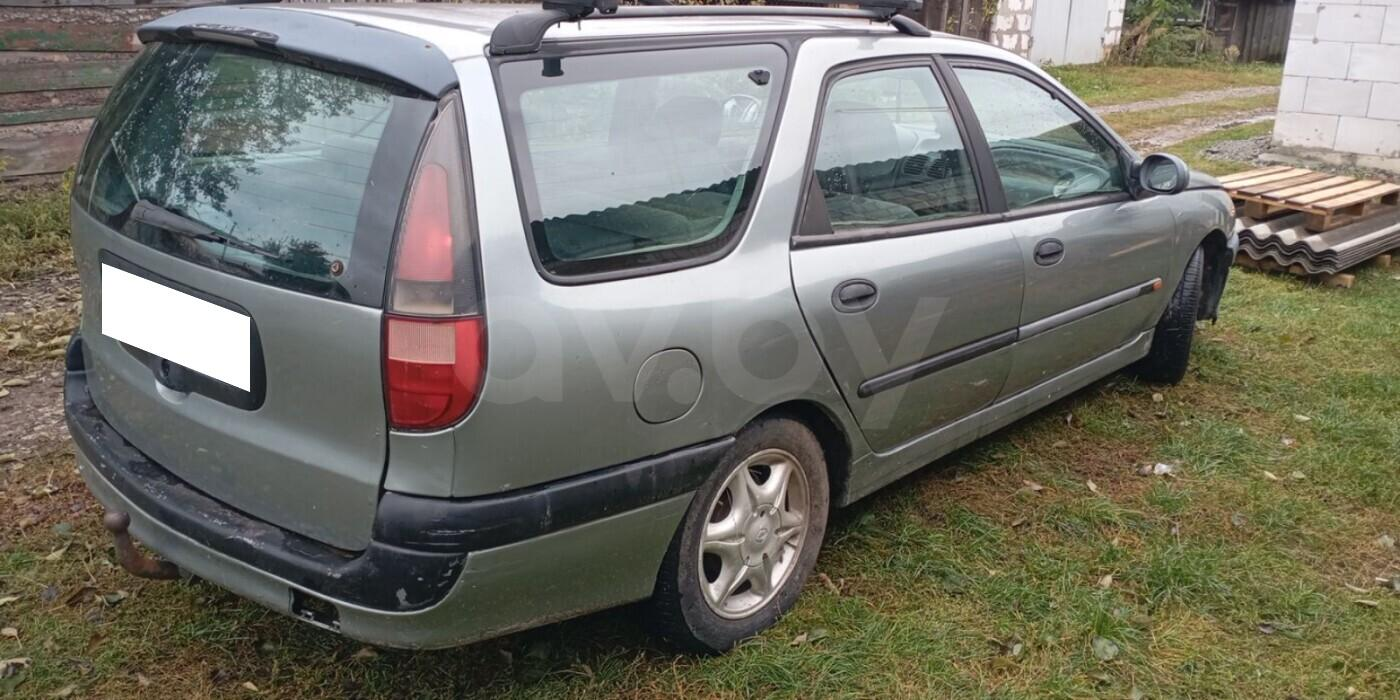Lahuna_1993-1999: (44, 0, 1240, 663)
